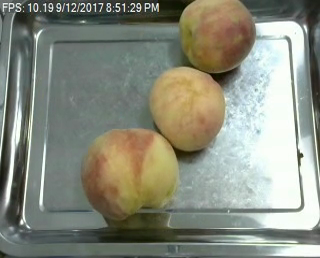Peach: (78, 127, 177, 220), (148, 66, 224, 151), (179, 0, 256, 73)
